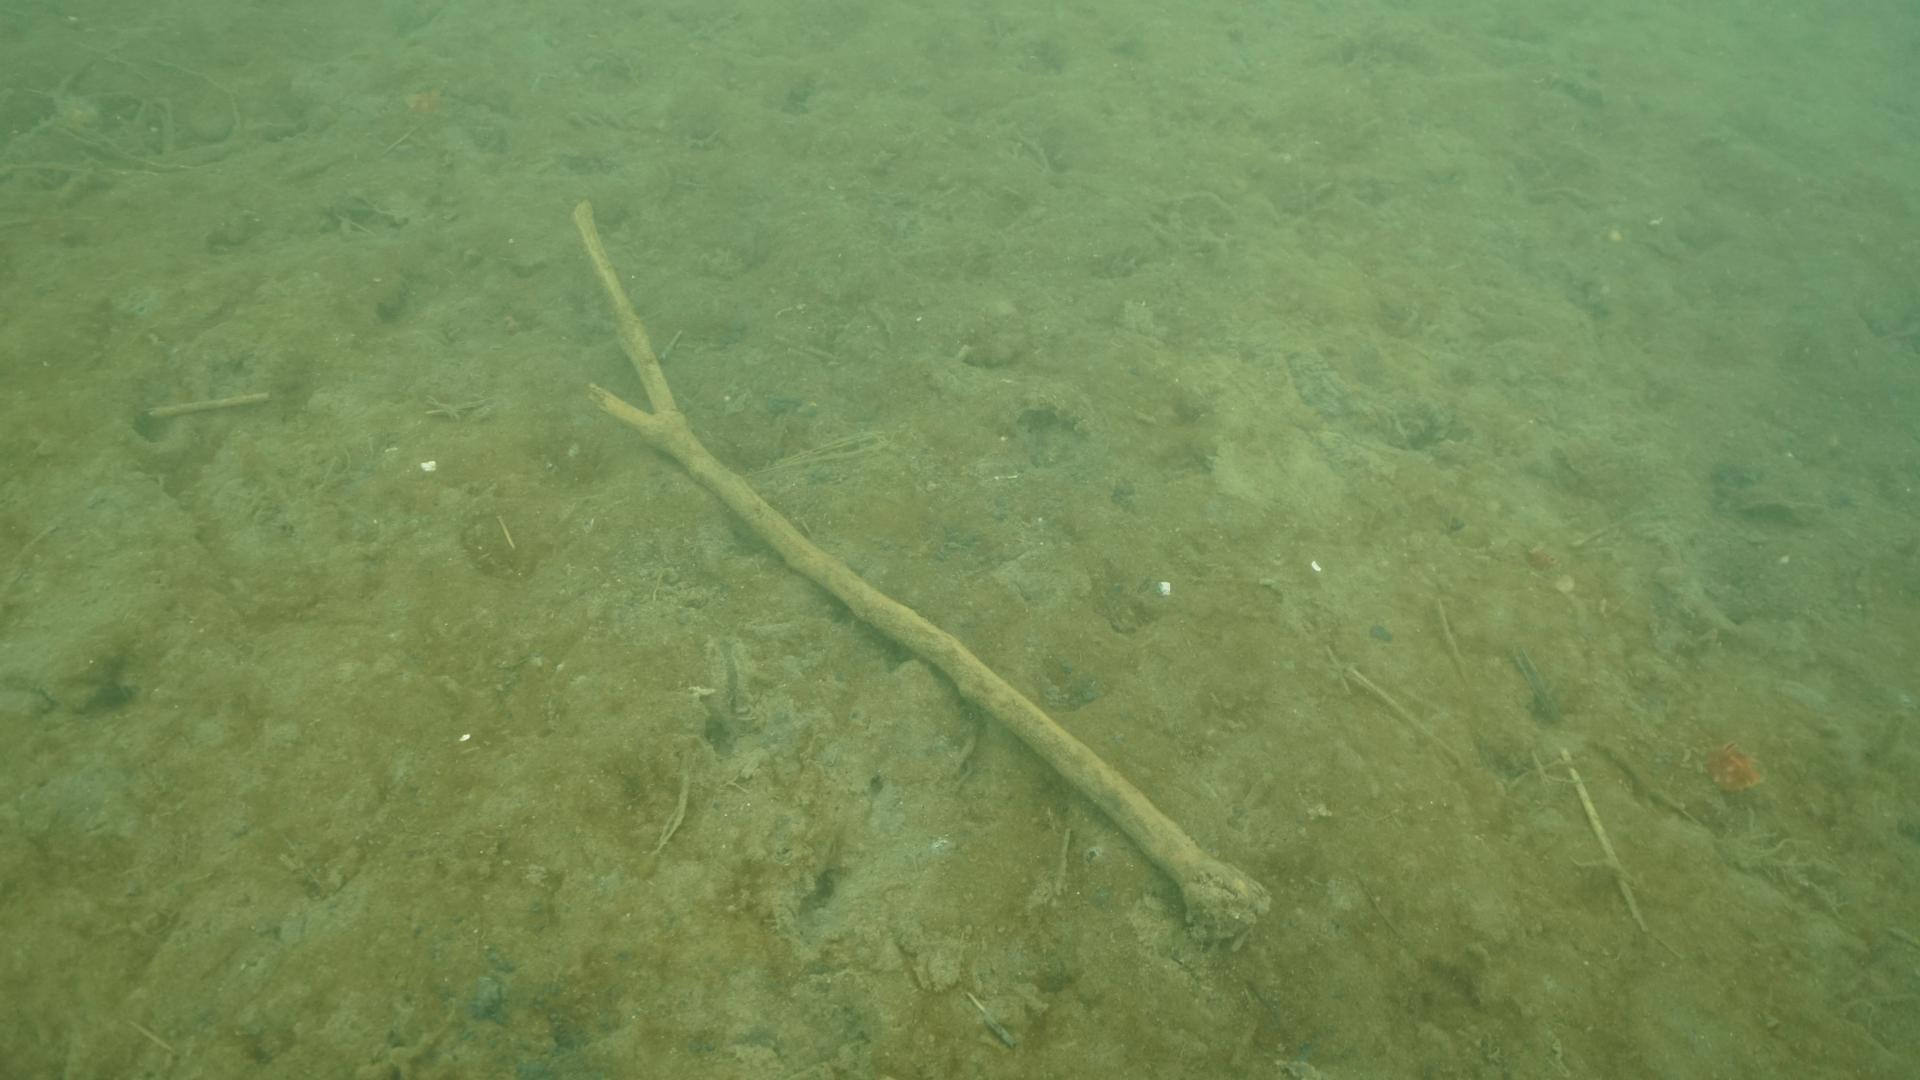wood: (572, 198, 1244, 913)
